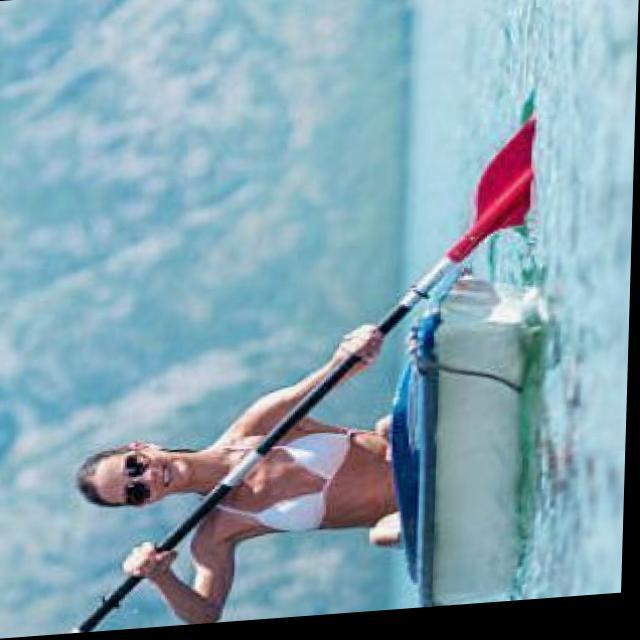kayak: (392, 269, 532, 614)
